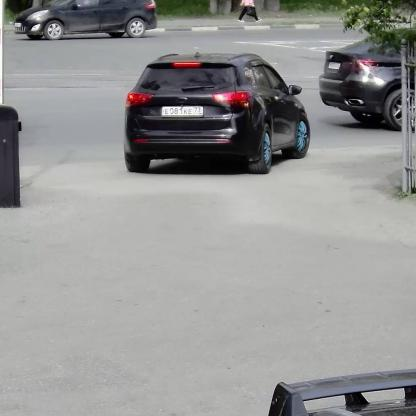plate: (162, 105, 203, 116)
